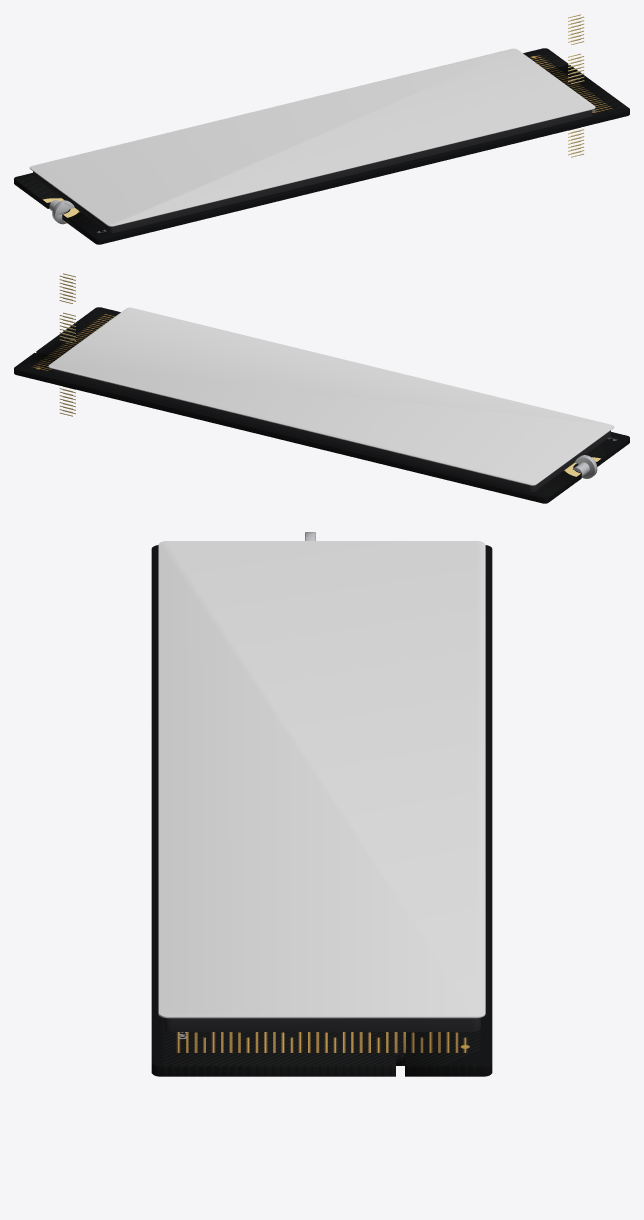
Rendered from m2_970evo.fbx.
3 views of the same model, one above another, from view 1: azimuth 30°, elevation 25°; view 2: azimuth 150°, elevation 25°; view 3: azimuth 270°, elevation 25° (orthographic). The views are drawn at different scales.
Visible parts, largest first — view 1: Label, PCB, PottingFill, Fingers_long_T; view 2: Label, PCB, PottingFill, Fingers_long_B; view 3: Label, PCB, PottingFill.
Boxes of the visible parts, x1,y1,x2,y2 form: Label: [29, 48, 595, 226]; PCB: [14, 48, 629, 244]; PottingFill: [33, 110, 592, 233]; Fingers_long_T: [571, 56, 584, 157]; Label: [48, 307, 614, 485]; PCB: [14, 307, 629, 503]; PottingFill: [51, 369, 610, 492]; Fingers_long_B: [59, 315, 72, 416]; Label: [158, 541, 485, 1018]; PCB: [151, 545, 492, 1076]; PottingFill: [163, 1017, 480, 1031].
Bounding box in the file's own units: 80.8 × 19.76 × 22.15.
